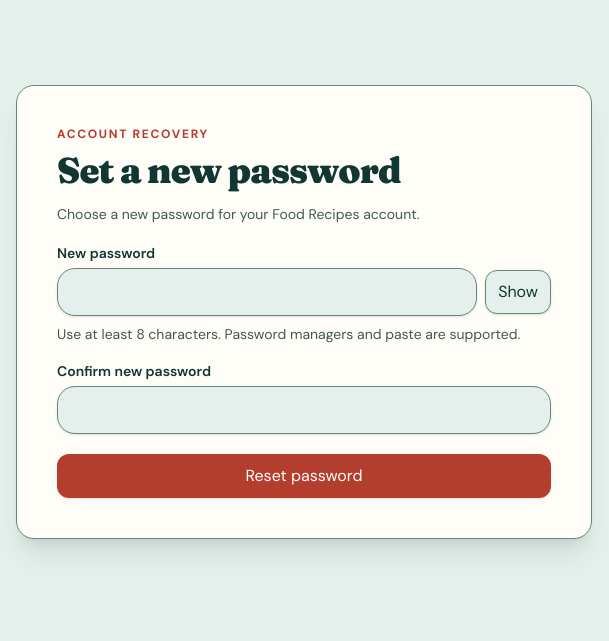
Test: ResetPassword › shows safe invalid-token copy without exposing the token
In the password field labelled "New password": [267, 292] box [57,268,477,316], type "new-password"
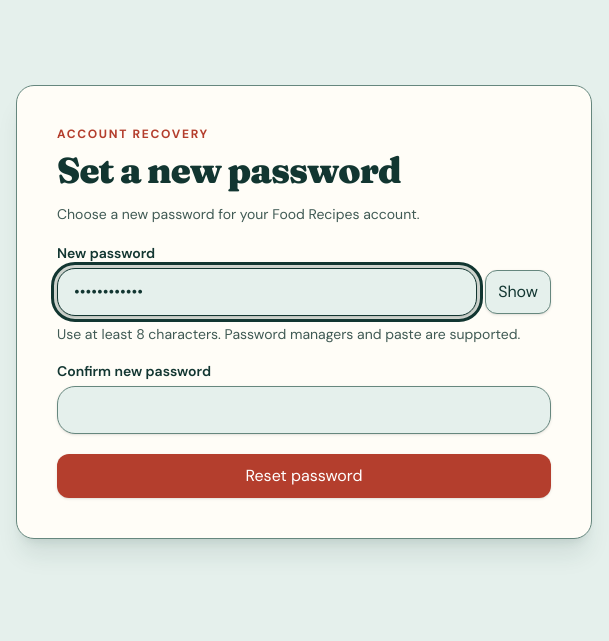
In the password field labelled "Confirm new password": [304, 410] box [57,386,551,434], type "new-password"
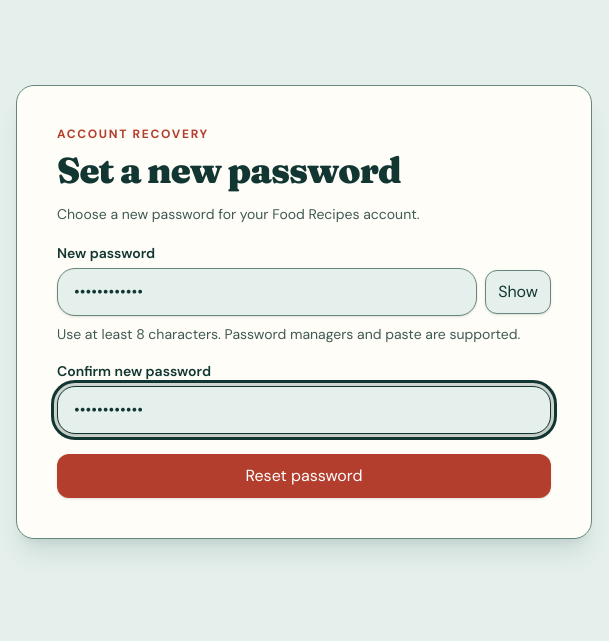
Click the button "Reset password": [304, 476] box [57,454,551,498]
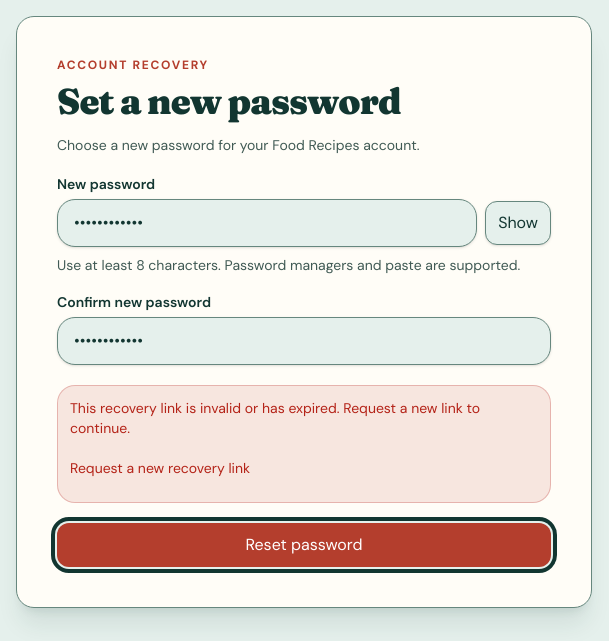
Expected: the message shows "invalid or has expired", [70,399,480,437]
Expected: the link "Request a new recovery link" is shown, [70,459,250,477]
